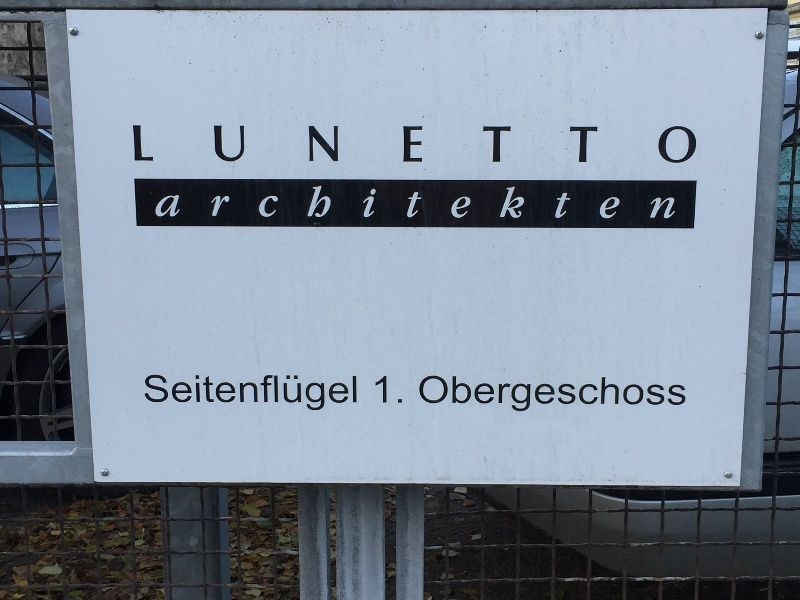text: (145, 122, 160, 166), (161, 122, 176, 166), (177, 122, 192, 166), (193, 122, 208, 166), (209, 122, 224, 166), (225, 122, 240, 166), (241, 122, 256, 166), (257, 122, 272, 166), (273, 122, 288, 166), (289, 122, 304, 166), (305, 122, 320, 166), (321, 122, 336, 166), (337, 122, 352, 166), (353, 122, 368, 166), (369, 122, 384, 166), (385, 122, 400, 166), (401, 122, 416, 166), (417, 122, 432, 166), (433, 122, 448, 166), (449, 122, 464, 166), (465, 122, 480, 166), (481, 122, 496, 166), (497, 122, 512, 166), (513, 122, 528, 166), (529, 122, 544, 166), (545, 122, 560, 166), (561, 122, 576, 166), (577, 122, 592, 166), (593, 122, 608, 166), (609, 122, 624, 166), (625, 122, 640, 166), (641, 122, 656, 166), (657, 122, 672, 166), (673, 122, 688, 166), (433, 374, 448, 414), (449, 374, 464, 414), (465, 374, 480, 414), (481, 374, 496, 414), (497, 374, 512, 414), (513, 374, 528, 414), (529, 374, 544, 414), (545, 374, 560, 414), (561, 374, 576, 414), (577, 374, 592, 414), (593, 374, 608, 414), (609, 374, 624, 414), (625, 374, 640, 414), (641, 374, 656, 414), (657, 374, 672, 414), (673, 374, 687, 414), (145, 375, 160, 412), (161, 375, 176, 412), (177, 375, 192, 412), (193, 375, 208, 412), (209, 375, 224, 412), (225, 375, 240, 412), (241, 375, 256, 412), (257, 375, 272, 412), (273, 375, 288, 412), (289, 375, 304, 412), (305, 375, 320, 412), (321, 375, 336, 412), (337, 375, 352, 412), (161, 186, 176, 222), (177, 186, 192, 222), (193, 186, 208, 222), (209, 186, 224, 222), (225, 186, 240, 222), (241, 186, 256, 222), (257, 186, 272, 222), (273, 186, 288, 222), (289, 186, 304, 222), (305, 186, 320, 222), (321, 186, 336, 222), (337, 186, 352, 222), (353, 186, 368, 222), (369, 186, 384, 222), (385, 186, 400, 222), (401, 186, 416, 222), (417, 186, 432, 222), (433, 186, 448, 222), (449, 186, 464, 222), (465, 186, 480, 222), (481, 186, 496, 222), (497, 186, 512, 222), (513, 186, 528, 222), (529, 186, 544, 222), (545, 186, 560, 222), (561, 186, 576, 222), (577, 186, 592, 222), (593, 186, 608, 222), (609, 186, 624, 222), (625, 186, 640, 222), (641, 186, 656, 222), (657, 186, 672, 222), (132, 122, 144, 166), (420, 374, 432, 414), (385, 375, 400, 405), (689, 122, 698, 166), (375, 375, 384, 405), (353, 375, 357, 412), (673, 186, 676, 222), (401, 375, 403, 405), (159, 186, 160, 222)
